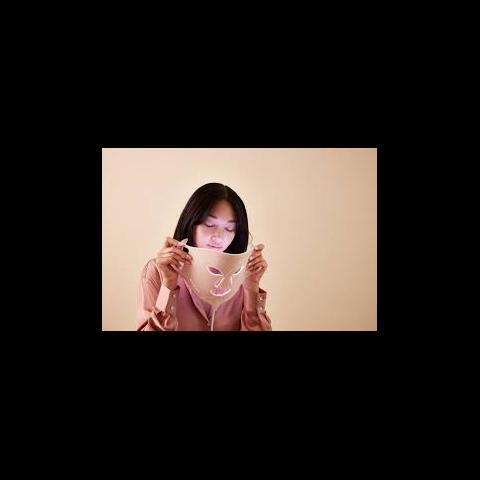closed: (204, 212, 240, 238)
